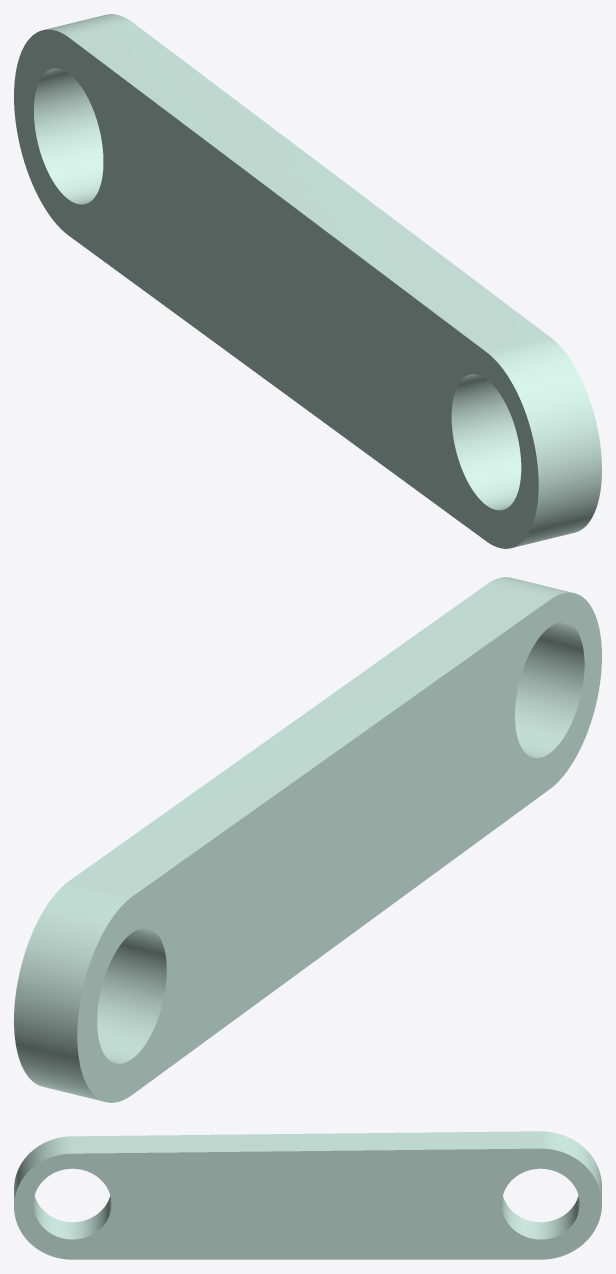
3 renders of one model, top to bottom at view 1: azimuth 30°, elevation 25°; view 2: azimuth 150°, elevation 25°; view 3: azimuth 270°, elevation 25°, orthographic. The views are drawn at different scales.
Parts seen in each view (by area): view 1: Renderer Node; view 2: Renderer Node; view 3: Renderer Node.
Boxes of the visible parts, x1,y1,x2,y2 form: Renderer Node: [14, 14, 601, 548]; Renderer Node: [14, 577, 601, 1102]; Renderer Node: [14, 1131, 601, 1259].
Size of the model in its own units: 0.1016 by 0.3039 by 1.46.
